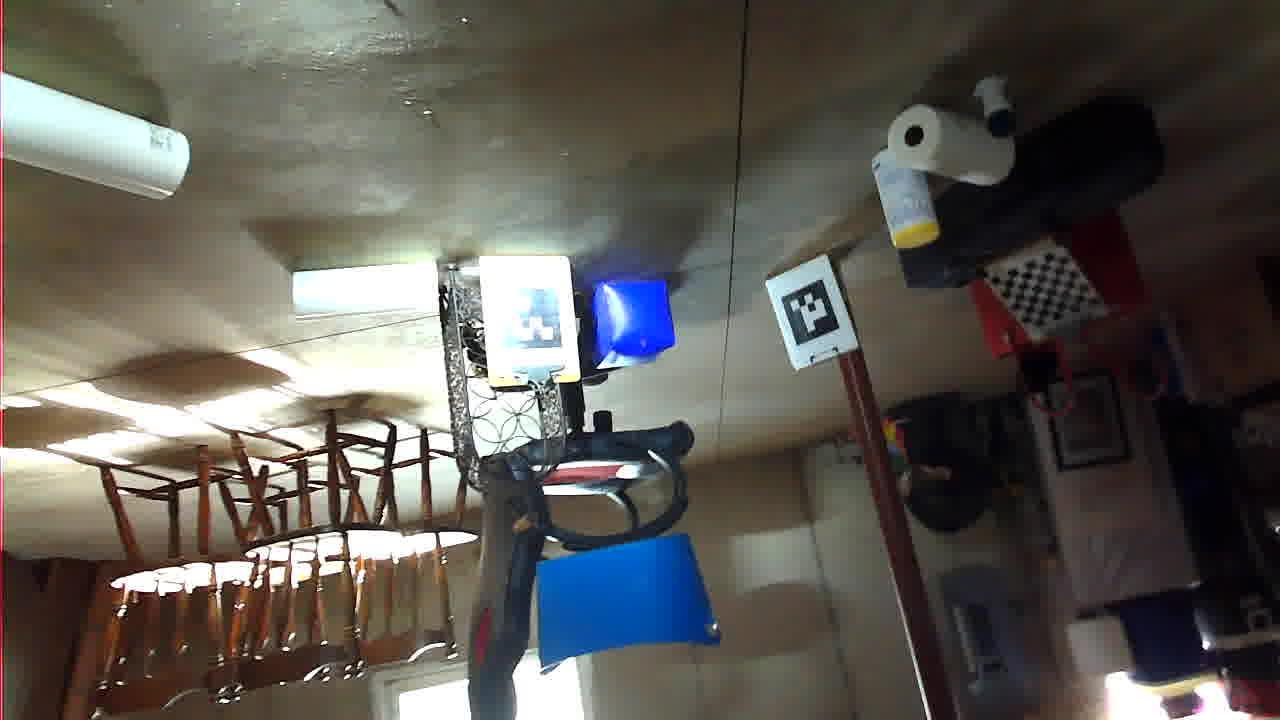coral: (1091, 521, 1280, 648), (843, 404, 987, 459)
